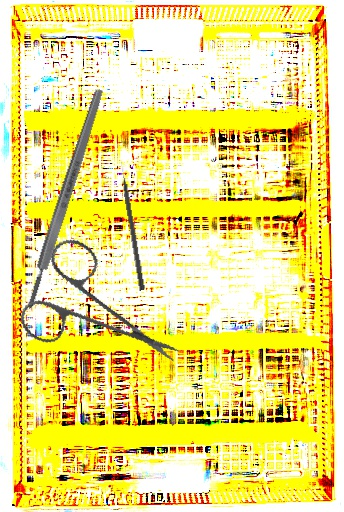Iris Scissors: (2, 218, 182, 400)
Pusher: (118, 160, 147, 291)
Scalpel Handle: (22, 87, 107, 311)
